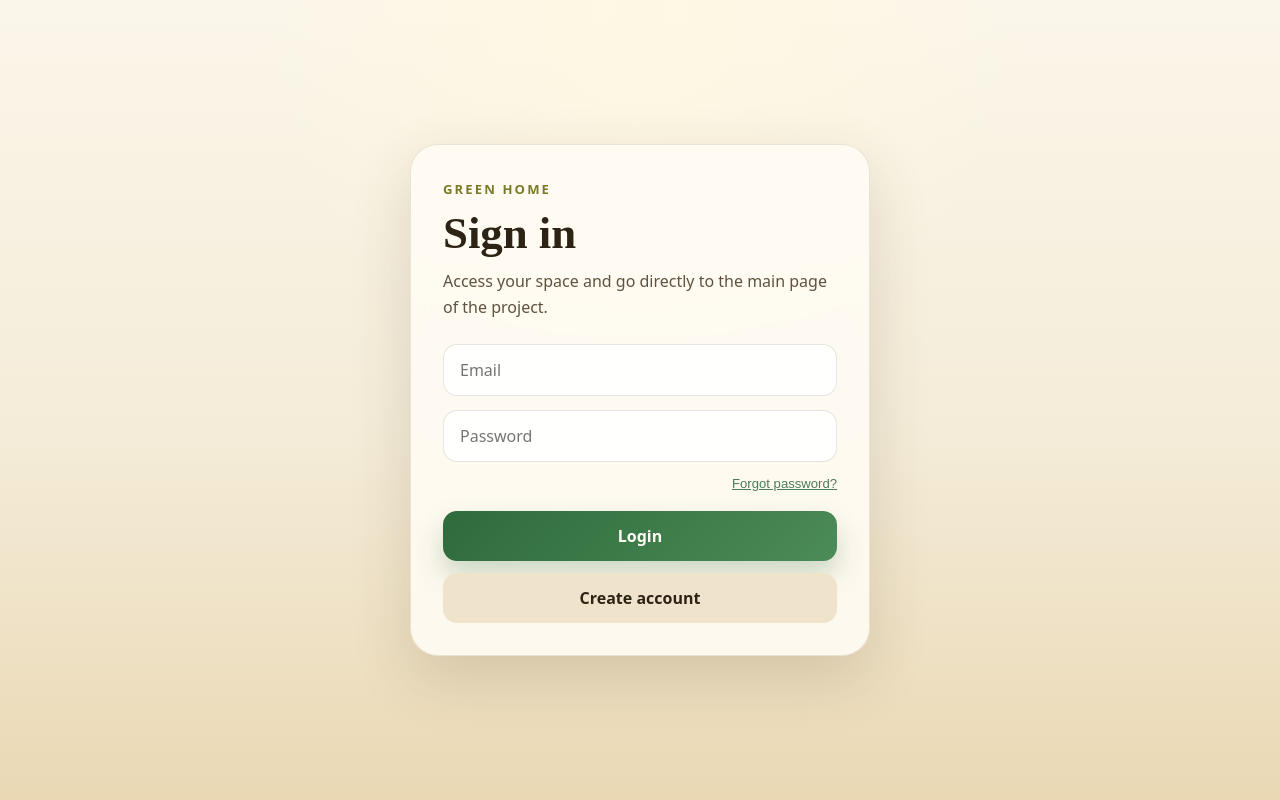
Login › shows email-not-confirmed banner on 403 response
What coordinates should you click on to do the following:
click the button "Login"
I would click on:
 (640, 536)
Its box is [443, 511, 837, 561].
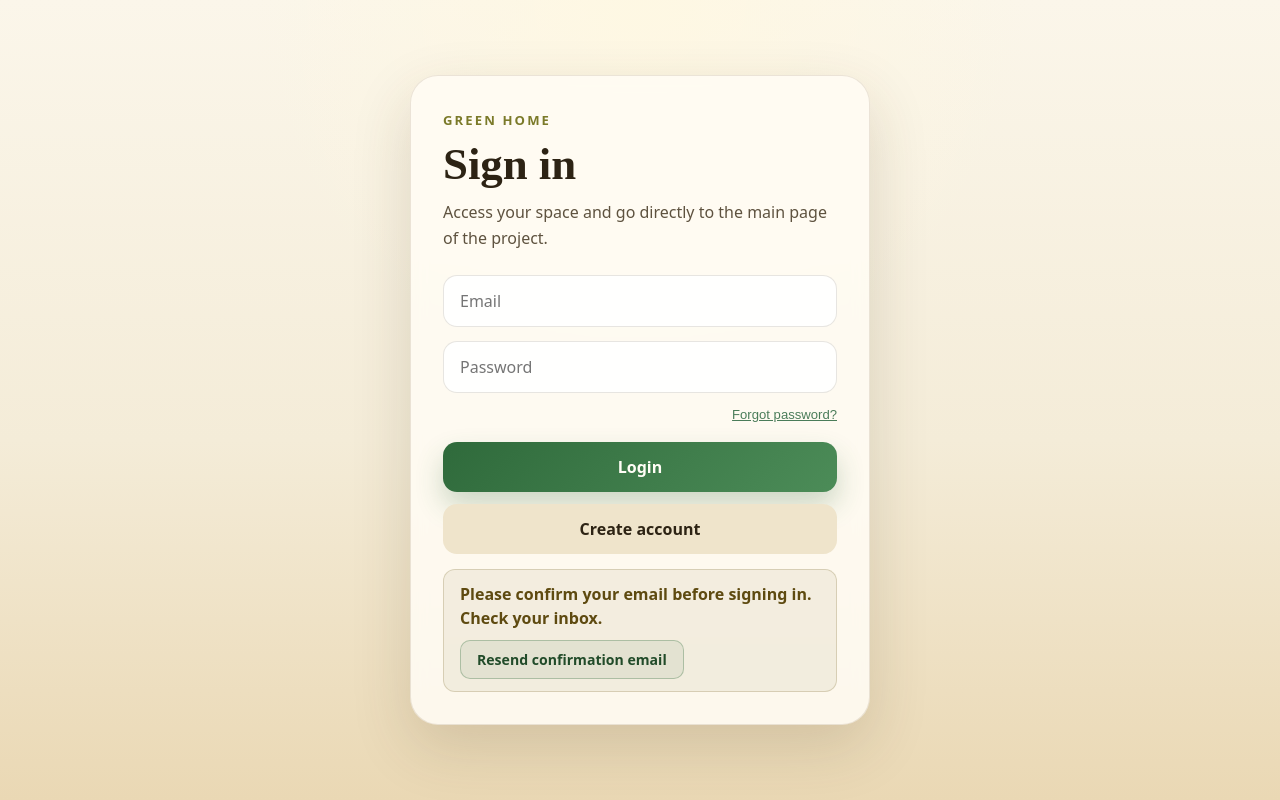
Result: the text "confirm your email" is shown at [460, 582, 812, 628]
